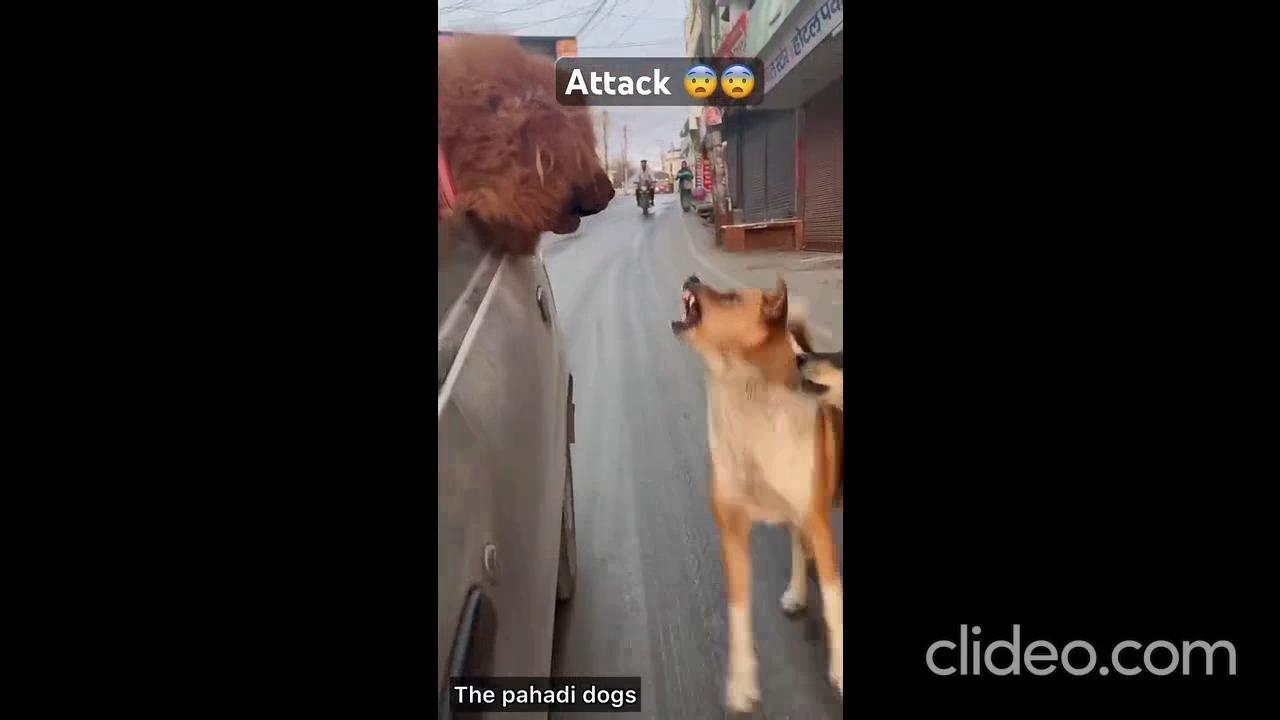dog: (670, 267, 838, 702)
